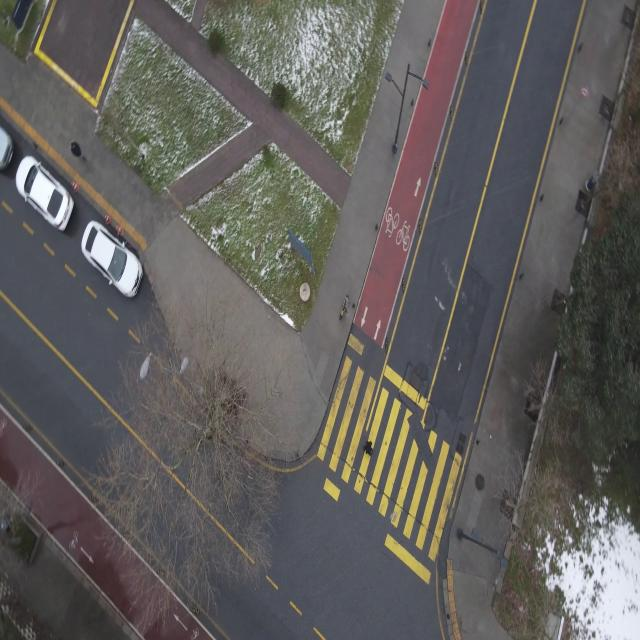p3rson: (69, 138, 86, 161), (362, 440, 373, 454)
